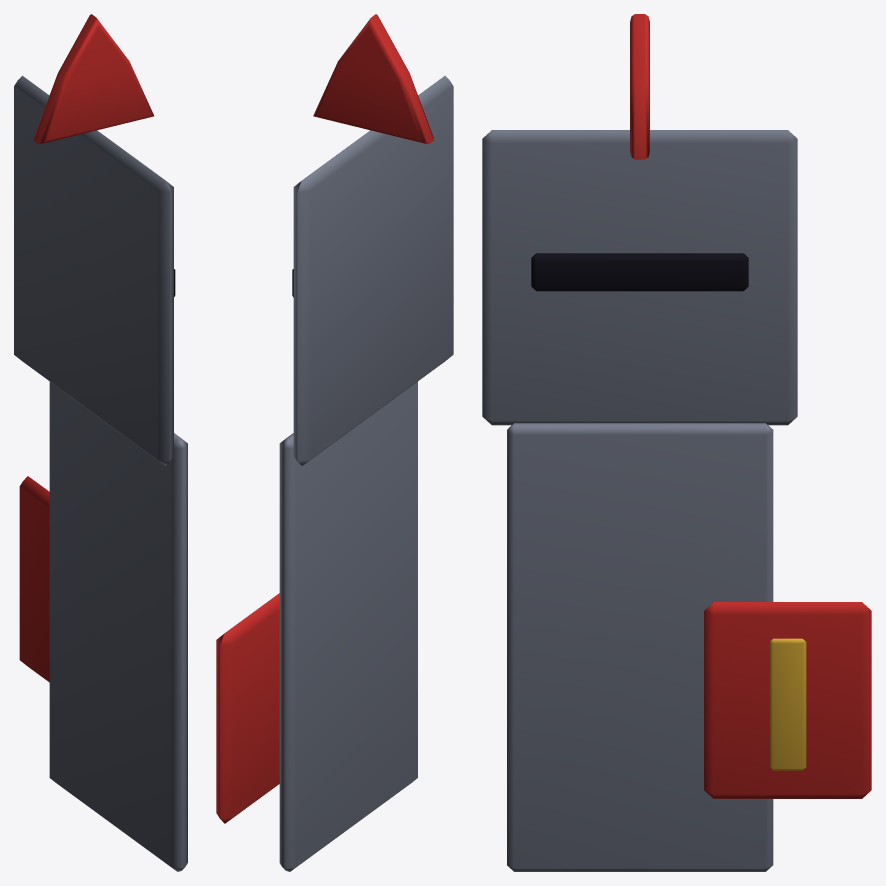
File: SM_Prop_StandIn_Knight.fbx
3 views of the same model, side by side, from view 1: azimuth 30°, elevation 25°; view 2: azimuth 150°, elevation 25°; view 3: azimuth 270°, elevation 25° (orthographic). The views are drawn at different scales.
Visible parts, largest first — view 1: SM_Prop_StandIn_Knight; view 2: SM_Prop_StandIn_Knight; view 3: SM_Prop_StandIn_Knight.
Part boxes in pixels (<box>): SM_Prop_StandIn_Knight: <box>14,14,187,871</box>; SM_Prop_StandIn_Knight: <box>216,14,453,871</box>; SM_Prop_StandIn_Knight: <box>482,14,871,871</box>.
Size of the model in its own units: 28.05 by 189 by 79.05.
